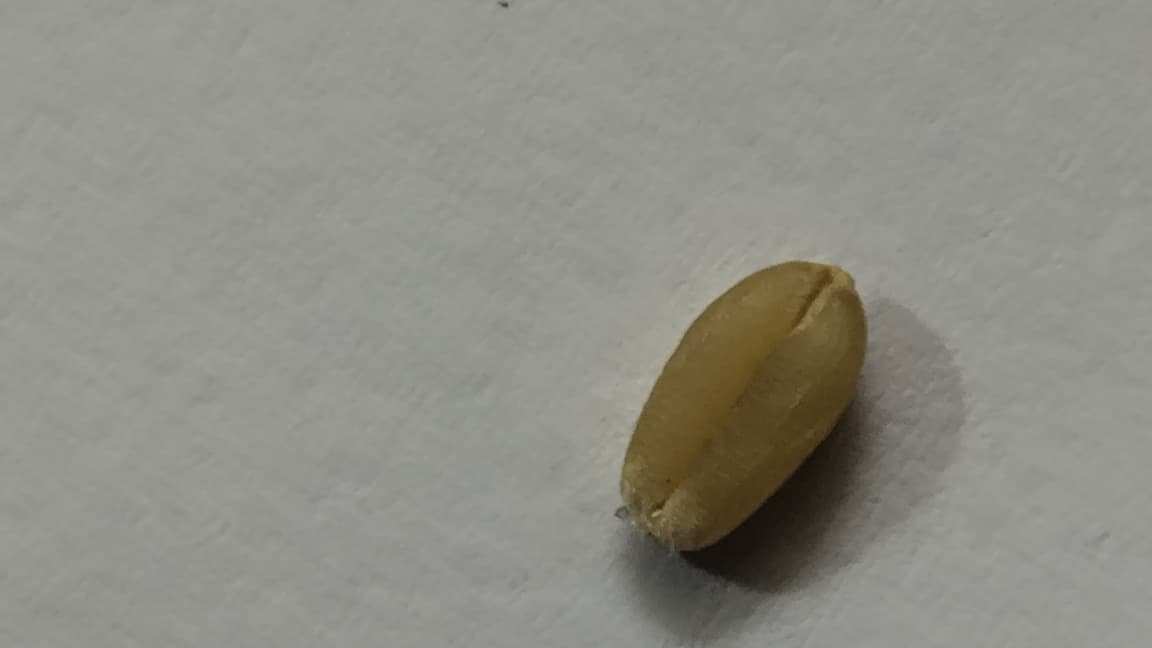healthy: (621, 261, 866, 549)
